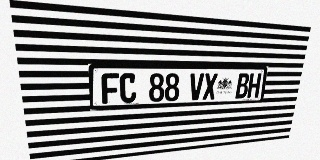8: (149, 73, 165, 102), (164, 73, 180, 101)
B: (235, 73, 250, 98)
C: (120, 73, 136, 103)
F: (101, 73, 119, 104)
H: (247, 73, 262, 98)
V: (189, 73, 204, 100)
X: (202, 73, 218, 100)
